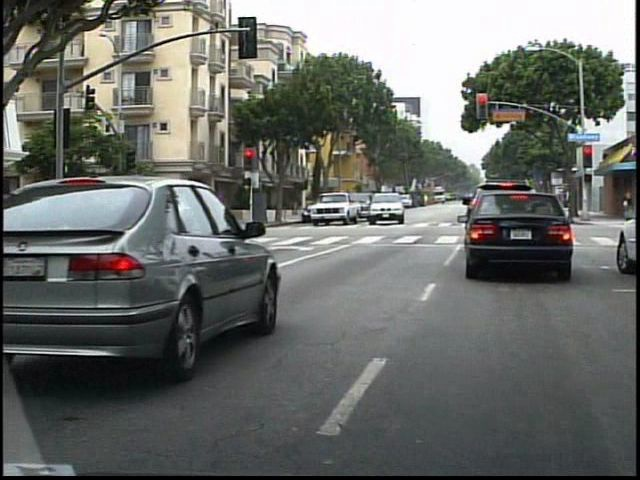person: (134, 191, 151, 236), (153, 193, 170, 234)
